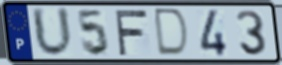3: (235, 9, 269, 57)
4: (199, 8, 229, 59)
5: (75, 8, 111, 57)
D: (154, 7, 192, 59)
F: (112, 8, 150, 58)
U: (29, 6, 75, 60)
